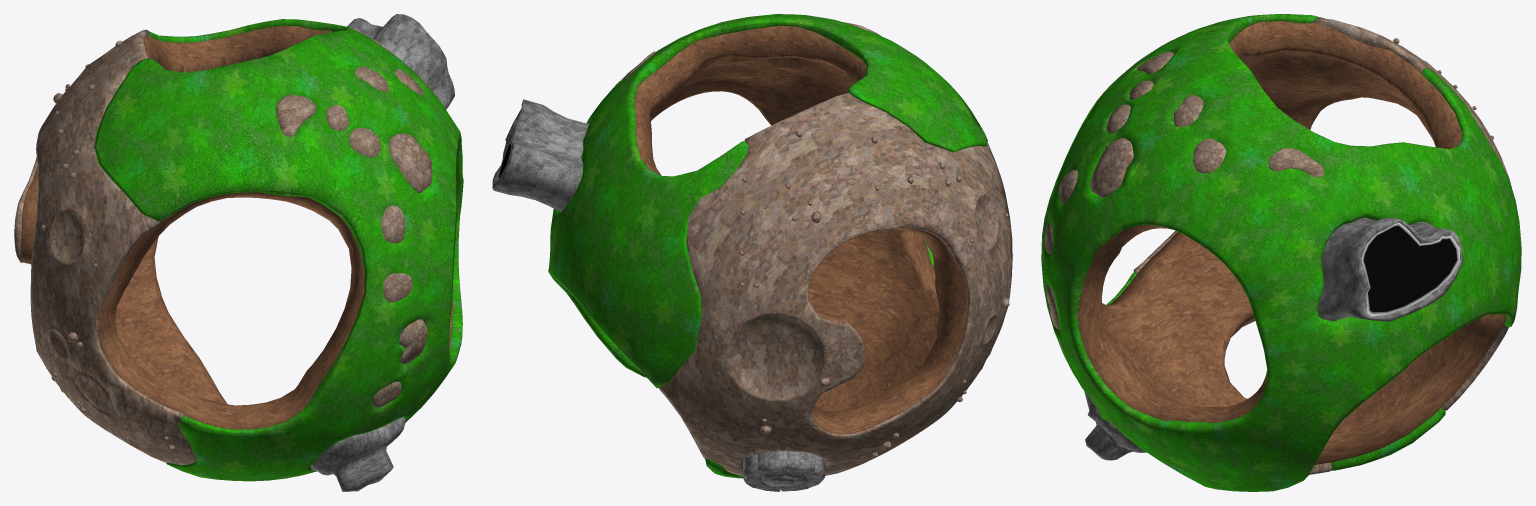
The model's file is planet.fbx.
3 views of the same model, side by side, from view 1: azimuth 30°, elevation 25°; view 2: azimuth 150°, elevation 25°; view 3: azimuth 270°, elevation 25° (orthographic). The views are drawn at different scales.
Visible parts, largest first — view 1: Grass, Dirt, Inner, Rocks; view 2: Dirt, Grass, Inner, Rocks; view 3: Grass, Inner, Dirt, Rocks, Pool.
Part boxes in pixels (<box>): Grass: <box>94,19,463,481</box>; Dirt: <box>14,29,432,464</box>; Inner: <box>20,25,456,429</box>; Rocks: <box>310,14,454,491</box>; Dirt: <box>622,22,1012,476</box>; Grass: <box>548,14,987,478</box>; Inner: <box>613,25,968,434</box>; Rocks: <box>492,99,825,491</box>; Grass: <box>1041,14,1521,491</box>; Inner: <box>1077,21,1506,464</box>; Dirt: <box>1044,17,1511,474</box>; Rocks: <box>1084,217,1463,460</box>; Pool: <box>1361,223,1460,315</box>.
Size of the model in its own units: 2482 by 2261 by 2269.
Materials: 4 (4 with a texture image).
